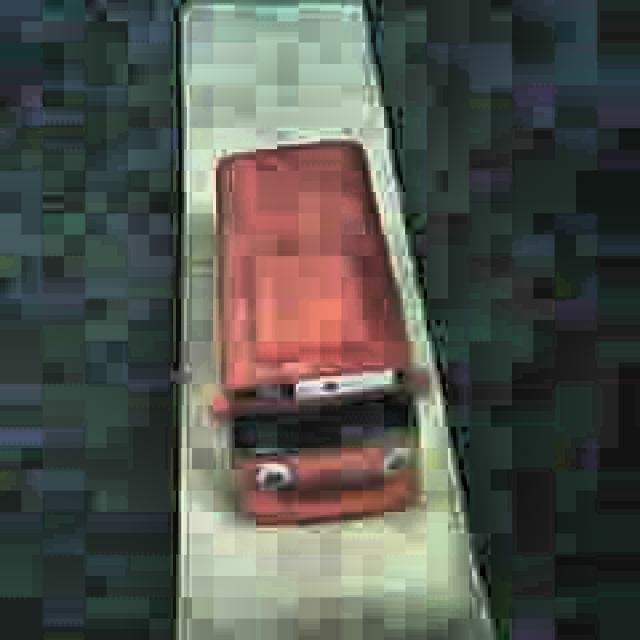bus: (208, 136, 434, 530)
